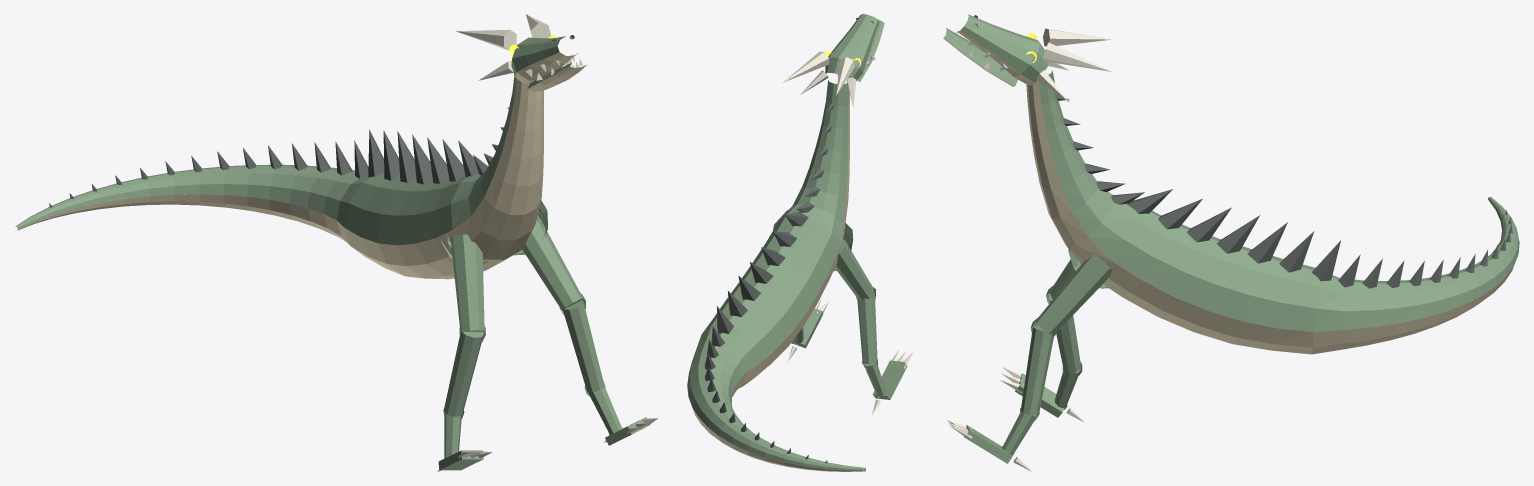
Rendered from dragons-and-wyverns-lindworm-standing-d5463860__36731.glb.
3 renders of one model, left to right at view 1: azimuth 30°, elevation 25°; view 2: azimuth 150°, elevation 25°; view 3: azimuth 270°, elevation 25°, orthographic. The views are drawn at different scales.
Visible parts, largest first — view 1: lindworm-standing; view 2: lindworm-standing; view 3: lindworm-standing.
Part boxes in pixels (left/top/right/bottom): lindworm-standing: left=15, top=14, right=657, bottom=471; lindworm-standing: left=687, top=14, right=913, bottom=471; lindworm-standing: left=943, top=14, right=1519, bottom=471.
Bounding box in the file's own units: 2.26 × 2.81 × 3.35.
